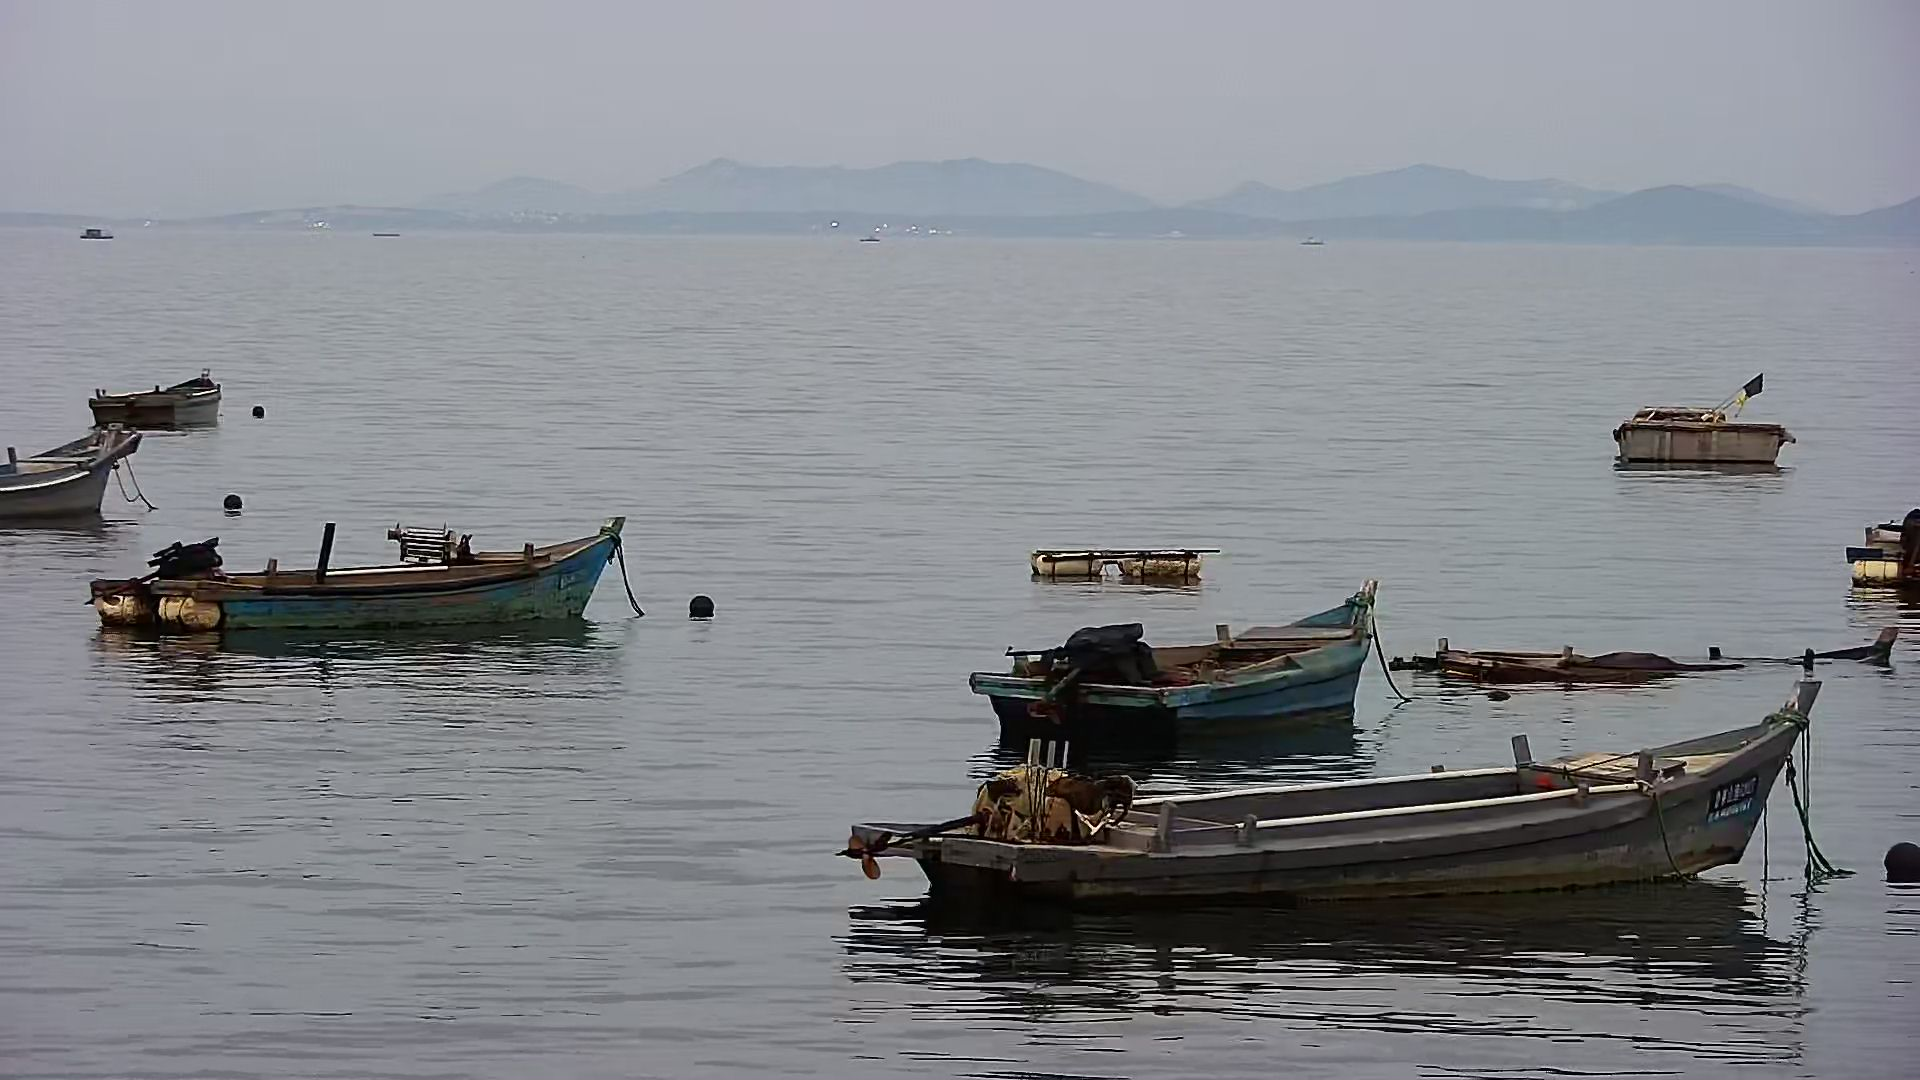ball: (1876, 836, 1920, 893), (219, 492, 255, 526), (686, 592, 713, 622)
boat: (849, 684, 1818, 932), (86, 506, 632, 651), (985, 578, 1381, 749), (1607, 389, 1803, 479), (73, 353, 239, 438)
rubbish: (1381, 611, 1898, 696), (1030, 535, 1218, 589)
